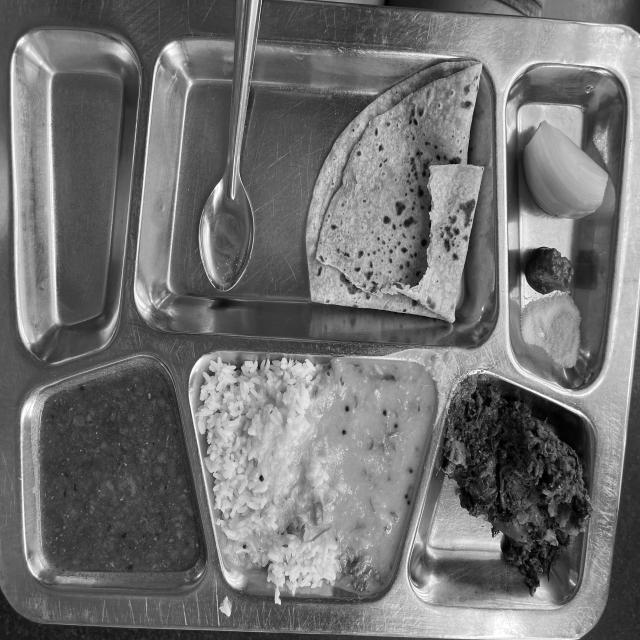Full-Plate: (0, 7, 620, 620)
